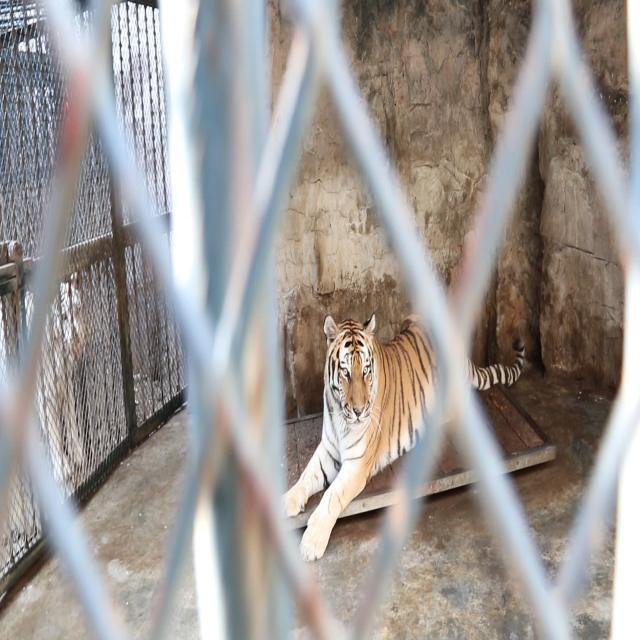Tiger: (277, 277, 547, 607)
